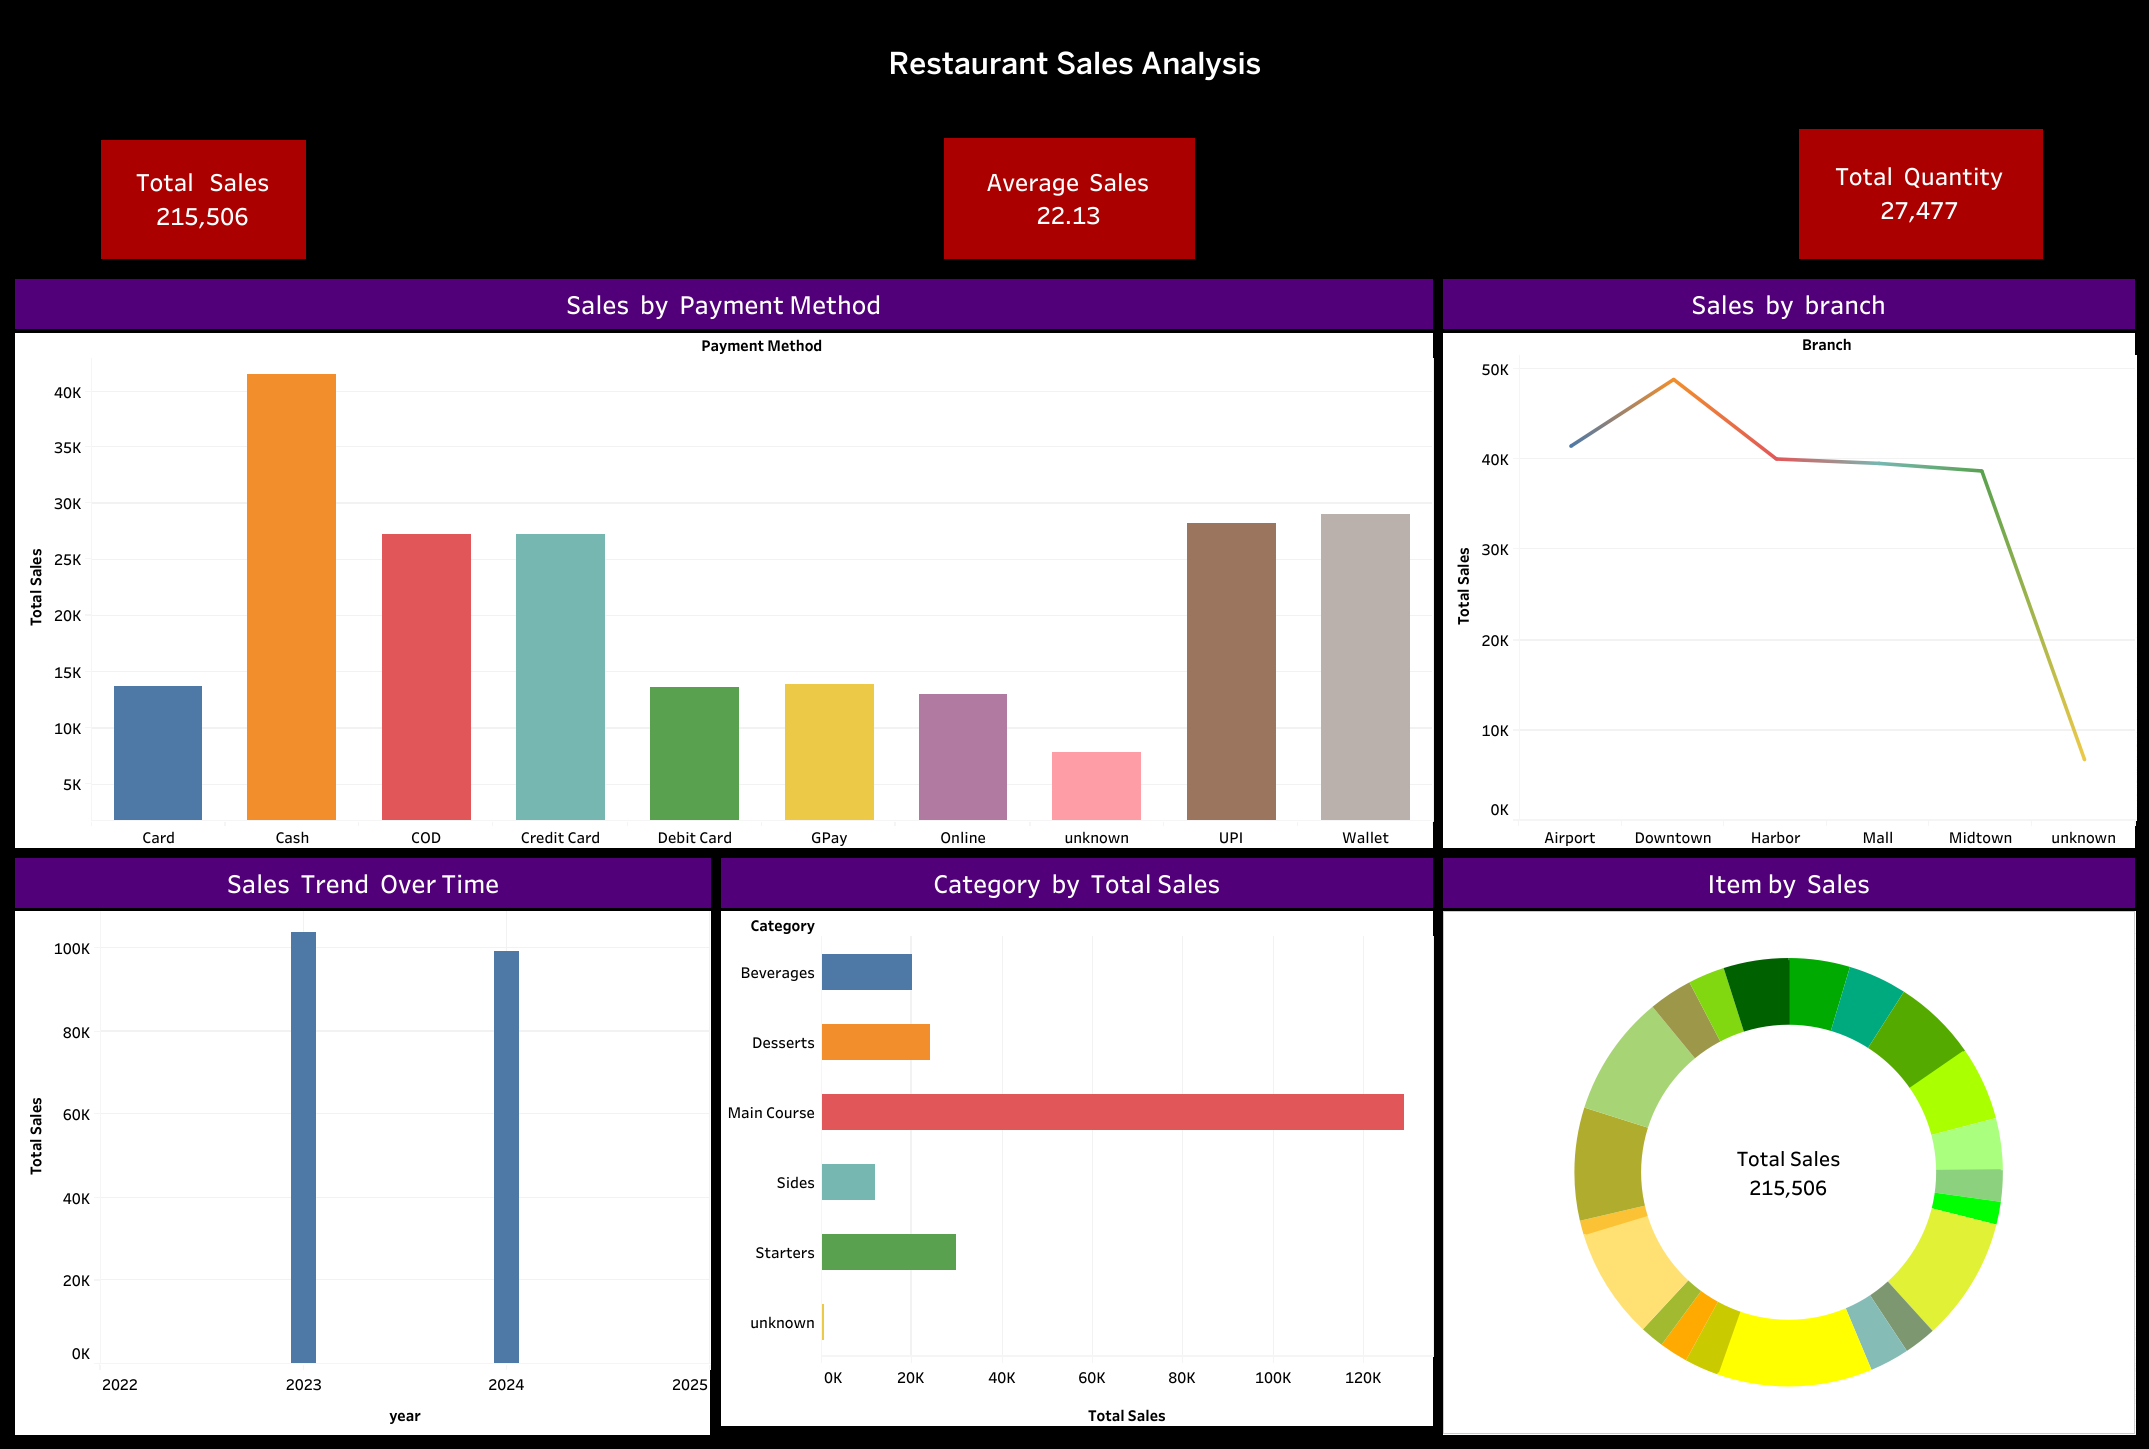

The dashboard page shown, as its layout file describes it:
{"tool":"tableau","page":{"name":"Dashboard 1","canvas":[1720,1160],"ordinal":0},"visuals":[{"type":"title","box":[8,8,1704,86]},{"type":"dashboard-object","box":[8.5,84,1703,131]},{"type":"worksheet","title":"Sheet 9","mark":"Automatic","box":[8,94,1704,125]},{"type":"worksheet","title":"Sheet 7","mark":"Automatic","box":[754.9,95,220.8,120]},{"type":"worksheet","title":"Sheet 8","mark":"Automatic","box":[1439,103,217,109]},{"type":"worksheet","title":"Sheet 6","mark":"Automatic","box":[80.7,112,197.5,104]},{"type":"worksheet","title":"Sheet 1","mark":"Bar","rows":["Total_Sales"],"cols":["Payment_Method"],"box":[8,219,1142,463]},{"type":"worksheet","title":"Sheet 2","mark":"Line","rows":["Total_Sales"],"cols":["Branch"],"box":[1150,219,562,463]},{"type":"worksheet","title":"Sheet 3","mark":"Bar","rows":["Total_Sales"],"cols":["Calculation_2120201106489345"],"box":[8,682,565.2,470]},{"type":"worksheet","title":"Sheet 5","mark":"Bar","rows":["Category"],"cols":["Total_Sales"],"box":[573.2,682,576.8,470]},{"type":"worksheet","title":"Sheet 4","mark":"Pie","rows":["Calculation_2120201262342146","Calculation_2120201262342146"],"box":[1150,682,562,470]}]}

Visuals, with their boxes in screenshot pixels (x1, y1, x2, y2), scaled from the page's 1720x1160 canvas onto the 2149x1449 screenshot:
title: <box>10,10,2139,117</box>
dashboard-object: <box>11,105,2138,269</box>
"Sheet 9" worksheet: <box>10,117,2139,274</box>
"Sheet 7" worksheet: <box>943,119,1219,269</box>
"Sheet 8" worksheet: <box>1798,129,2069,265</box>
"Sheet 6" worksheet: <box>101,140,348,270</box>
"Sheet 1" worksheet (Bar marks): <box>10,274,1437,852</box>
"Sheet 2" worksheet (Line marks): <box>1437,274,2139,852</box>
"Sheet 3" worksheet (Bar marks): <box>10,852,716,1439</box>
"Sheet 5" worksheet (Bar marks): <box>716,852,1437,1439</box>
"Sheet 4" worksheet (Pie marks): <box>1437,852,2139,1439</box>
